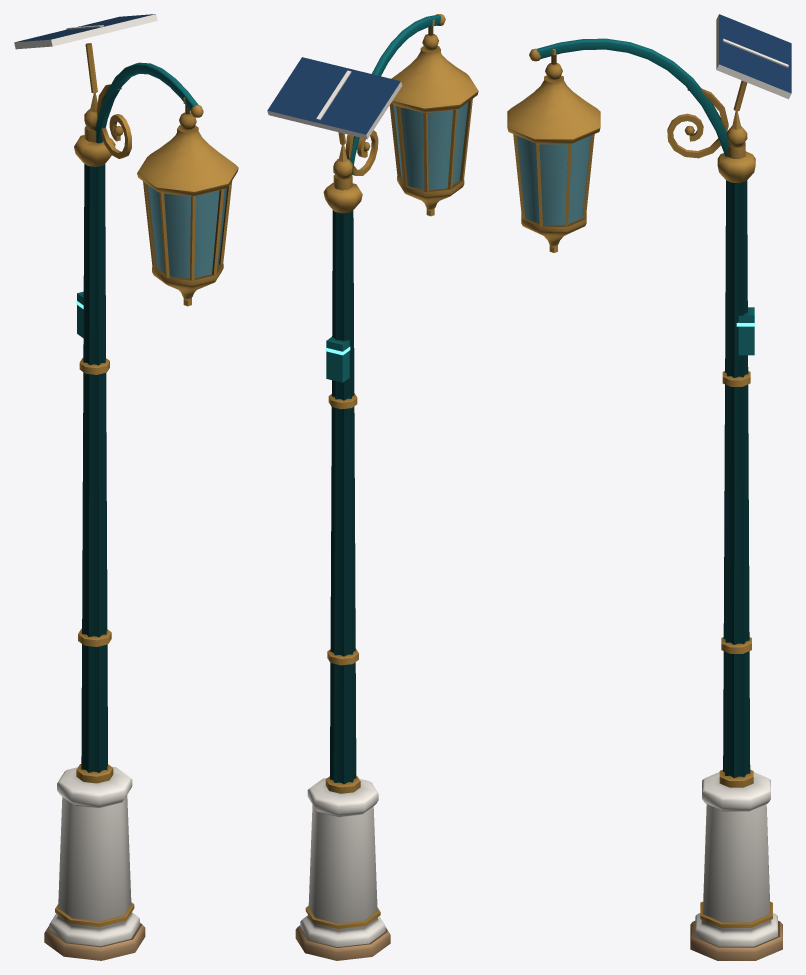
File: street_lamp.fbx
3 views of the same model, side by side, from view 1: azimuth 30°, elevation 25°; view 2: azimuth 150°, elevation 25°; view 3: azimuth 270°, elevation 25° (orthographic). The views are drawn at different scales.
Parts seen in each view (by area): view 1: street_lamp; view 2: street_lamp; view 3: street_lamp.
Part boxes in pixels (x1,y1,x2,y2): street_lamp: (14,14,238,960); street_lamp: (267,14,478,960); street_lamp: (507,14,791,960).
Bounding box in the file's own units: 0.6 × 5.01 × 1.43.
